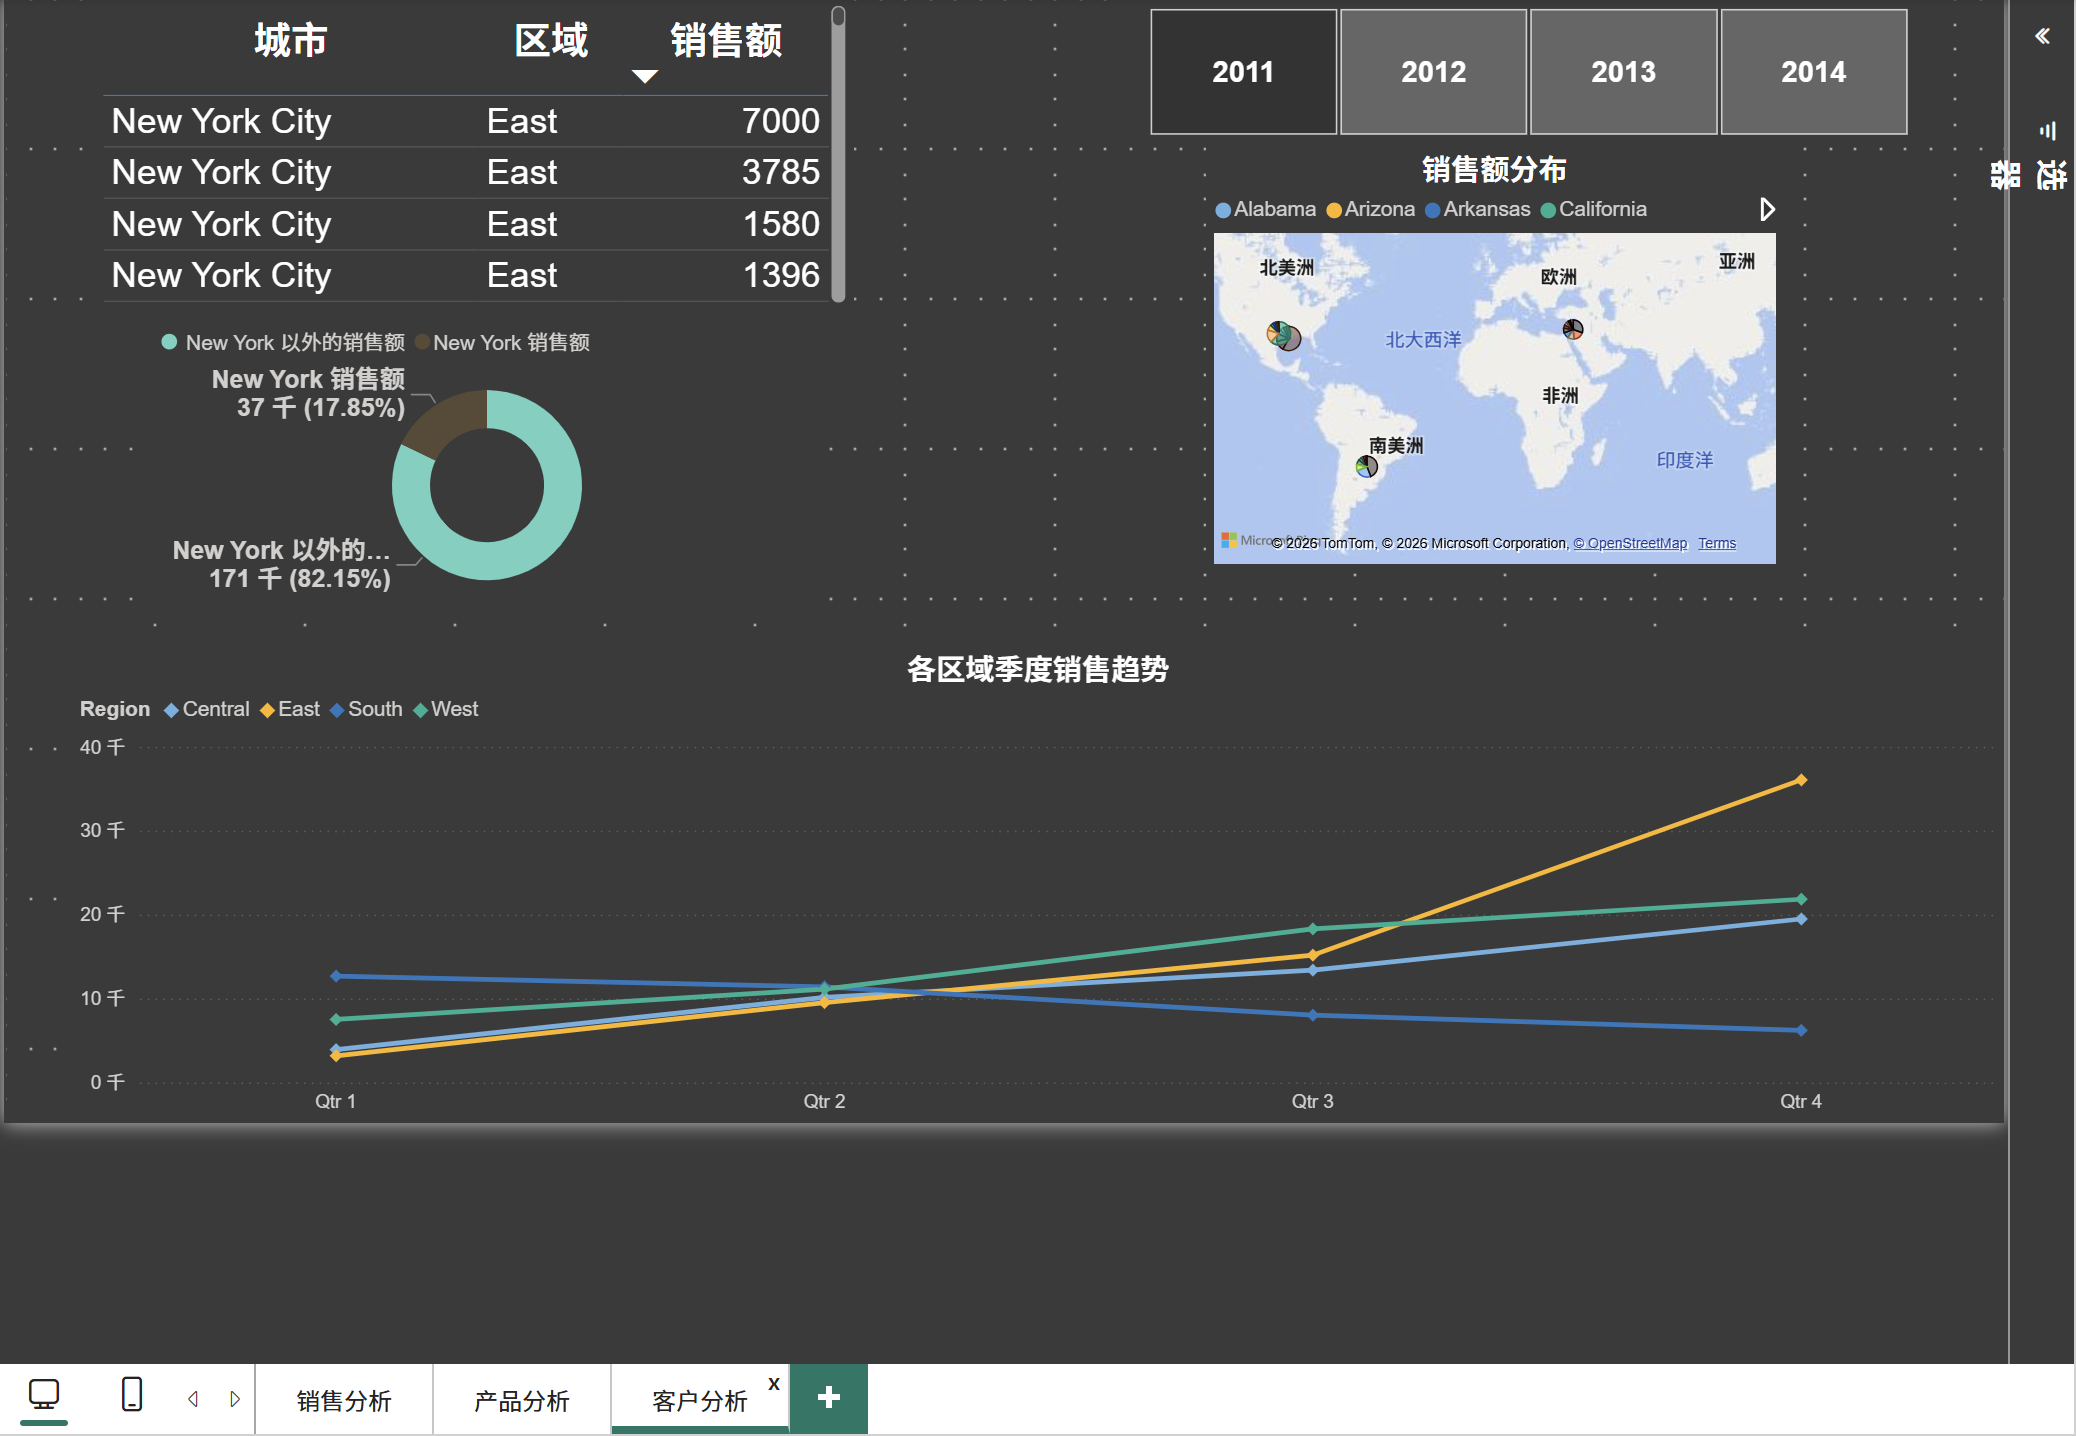

What the dashboard file says about the page in this screenshot:
{"tool":"powerbi","page":{"name":"客户分析","canvas":[1280,720],"ordinal":2},"visuals":[{"type":"map","title":"销售额分布","fields":{"Size":["Sum(Superstore.Sales)"],"Series":["Superstore.State"],"Category":["Superstore.Region"]},"box":[769.6,94.4,369.6,272],"z":0},{"type":"donutChart","fields":{"Y":["Superstore. New York 以外的销售额","Superstore. New York 以外的销售额","Superstore.New York 销售额"]},"box":[94.7,199.7,428.8,194.6],"z":1000},{"type":"slicer","fields":{"Values":["Superstore.Order Date.Variation.Date Hierarchy.Year"]},"box":[707.2,0,534.4,94.4],"z":2000},{"type":"lineChart","title":"各区域季度销售趋势","fields":{"Category":["Superstore.Order Date.Variation.Date Hierarchy.Year","Superstore.Order Date.Variation.Date Hierarchy.Quarter","Superstore.Order Date.Variation.Date Hierarchy.Month","Superstore.Order Date.Variation.Date Hierarchy.Day"],"Y":["Sum(Superstore.Sales)"],"Series":["Superstore.Region"]},"box":[43.2,414.4,1236.8,307.2],"z":3000},{"type":"tableEx","fields":{"Values":["Superstore.City","Superstore.Region","Superstore.Sales"]},"box":[58,0,486,200],"z":4000}]}

Visuals, with their boxes on the page's 1280x720 design canvas (x1, y1, x2, y2). These are canvas units, not pixel positions in the 2076x1436 screenshot, which may show the page scaled, cropped or inside an application window:
"销售额分布" map: 770/94/1139/366
donutChart - Superstore. New York 以外的销售额 x Superstore. New York 以外的销售额: 95/200/524/394
slicer - Superstore.Order Date.Variation.Date Hierarchy.Year: 707/0/1242/94
"各区域季度销售趋势" lineChart: 43/414/1280/722
tableEx - Superstore.City x Superstore.Region: 58/0/544/200
